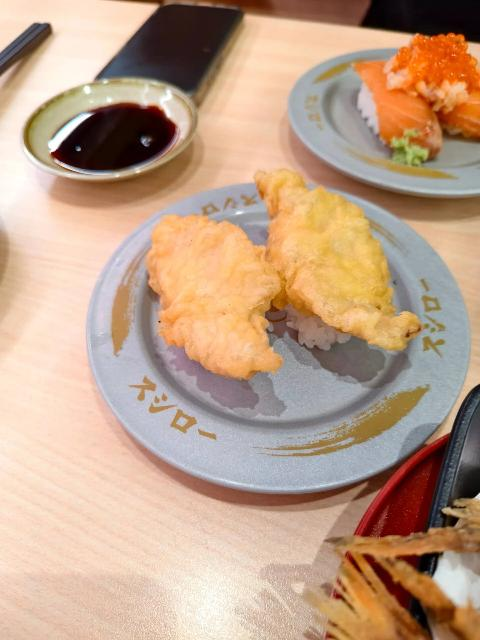janwhite: (102, 188, 460, 477), (276, 47, 480, 214)
